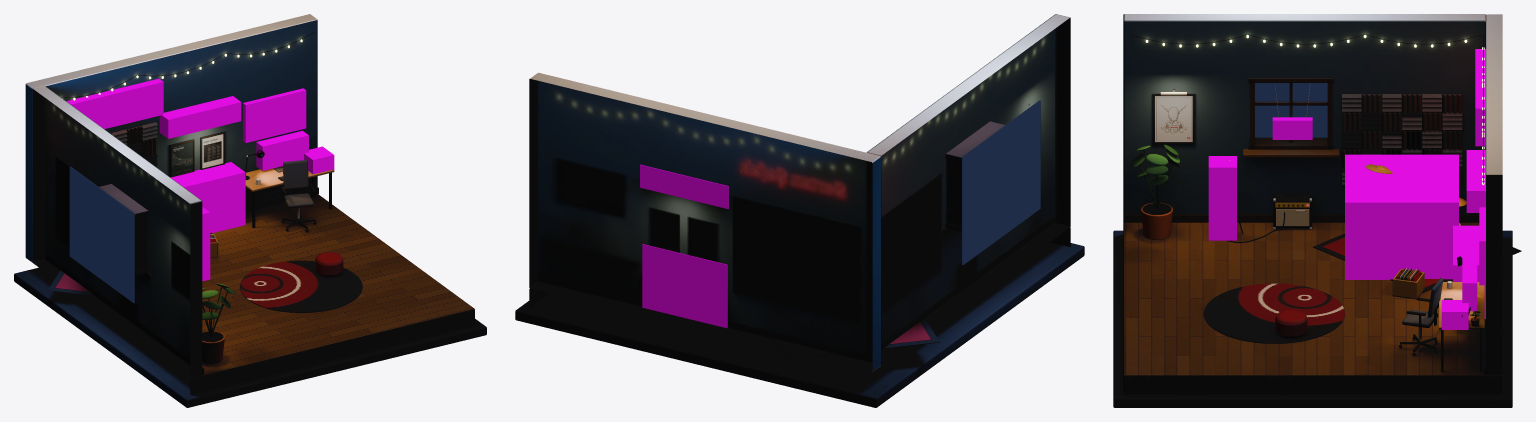
File: oda.glb
3 views of the same model, side by side, from view 1: azimuth 30°, elevation 25°; view 2: azimuth 150°, elevation 25°; view 3: azimuth 270°, elevation 25° (orthographic). The views are drawn at different scales.
Visible parts, largest first — view 1: room_static, fx_sky, furn_static, hit_work, hit_about, hit_projects, hit_education, hit_analyses, chair, poster_clusters_art, hit_experience, hit_drums (+1 smaller); view 2: room_static, fx_sky, hit_work, hit_education; view 3: room_static, hit_drums, furn_static, fx_sky, hit_guitar, poster_octopus_art, hit_work, chair, hit_education, hit_about, hit_contact, hit_experience (+3 smaller).
Boxes of the visible parts, <box> form: room_static: <box>14,14,486,407</box>; fx_sky: <box>69,166,134,303</box>; furn_static: <box>61,32,343,363</box>; hit_work: <box>170,162,245,232</box>; hit_about: <box>66,78,163,128</box>; hit_projects: <box>243,88,306,142</box>; hit_education: <box>159,96,241,138</box>; hit_analyses: <box>256,130,308,170</box>; chair: <box>281,160,316,231</box>; poster_clusters_art: <box>202,134,223,168</box>; hit_experience: <box>304,146,334,174</box>; hit_drums: <box>202,207,210,281</box>; room_static: <box>515,14,1084,407</box>; fx_sky: <box>962,100,1040,265</box>; hit_work: <box>642,244,727,328</box>; hit_education: <box>640,164,728,208</box>; room_static: <box>1113,14,1521,407</box>; hit_drums: <box>1345,154,1458,279</box>; furn_static: <box>1130,34,1484,371</box>; fx_sky: <box>1255,83,1327,137</box>; hit_guitar: <box>1208,156,1236,240</box>; poster_octopus_art: <box>1155,96,1192,141</box>; hit_work: <box>1453,225,1485,318</box>; chair: <box>1399,278,1443,355</box>; hit_education: <box>1466,150,1485,212</box>; hit_about: <box>1475,49,1485,146</box>; hit_contact: <box>1272,117,1312,139</box>; hit_experience: <box>1441,300,1468,329</box>.
Bounding box in the file's own units: 6.13 × 3.78 × 6.08.
Materials: 17 (8 with a texture image).
